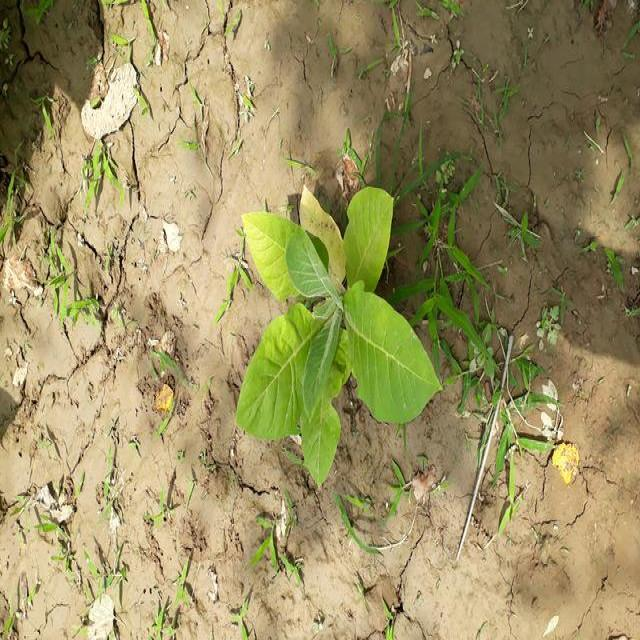crop: (233, 182, 444, 488)
